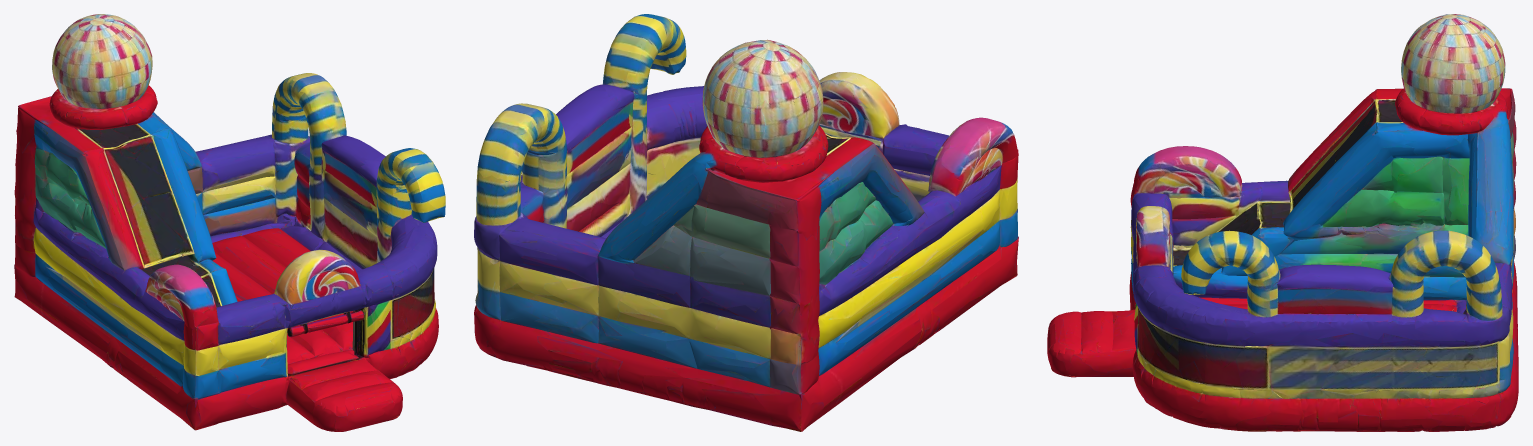
3 renders of one model, left to right at view 1: azimuth 30°, elevation 25°; view 2: azimuth 150°, elevation 25°; view 3: azimuth 270°, elevation 25°, orthographic. The views are drawn at different scales.
Size of the model in its own units: 1.43 by 1.35 by 1.9.
1 material, 1 textured.
